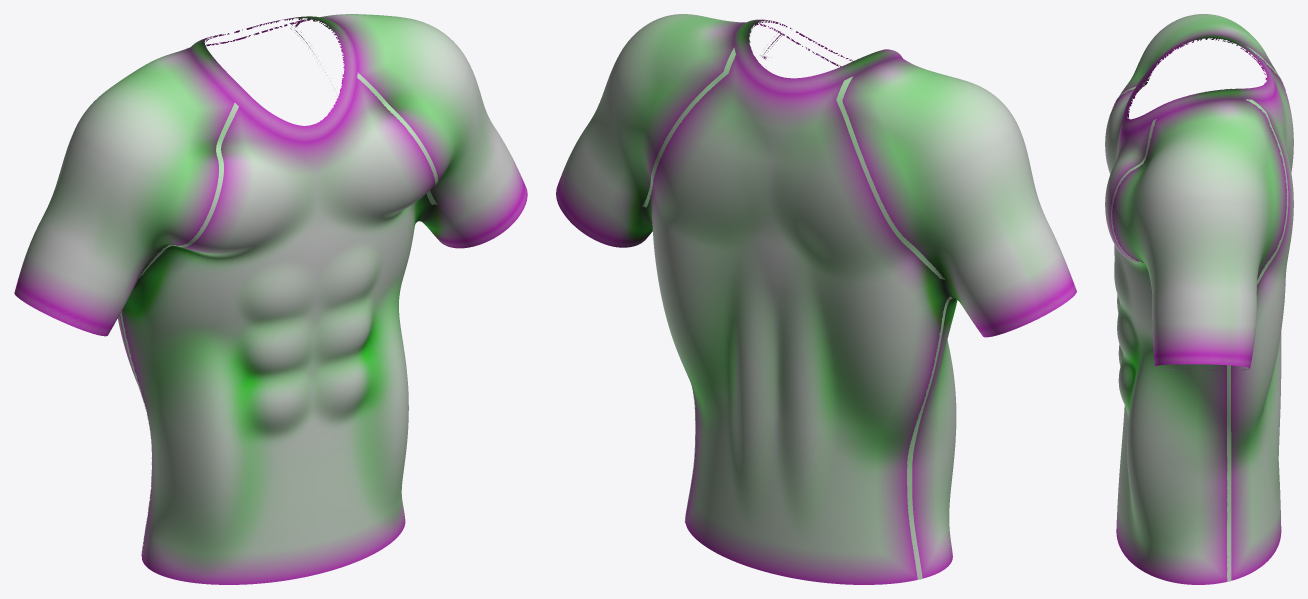
Rendered from compressiontee.glb.
3 renders of one model, left to right at view 1: azimuth 30°, elevation 25°; view 2: azimuth 150°, elevation 25°; view 3: azimuth 270°, elevation 25°, orthographic. The views are drawn at different scales.
Parts seen in each view (by area): view 1: front, sleeve_r, sleeve_l, collar, piping; view 2: back, sleeve_r, sleeve_l, front, piping, collar; view 3: sleeve_l, front, back, sleeve_r, collar, piping.
Part boxes in pixels (box(x1,y1,x2,y2)): front: box(121, 76, 435, 584); sleeve_r: box(14, 47, 234, 336); sleeve_l: box(295, 14, 527, 248); collar: box(189, 16, 357, 141); piping: box(120, 19, 438, 556); back: box(645, 52, 951, 584); sleeve_r: box(842, 57, 1076, 337); sleeve_l: box(556, 14, 781, 247); front: box(685, 33, 957, 578); piping: box(642, 31, 952, 579); collar: box(734, 19, 902, 94); sleeve_l: box(1112, 99, 1286, 370); front: box(1105, 67, 1227, 584); back: box(1231, 54, 1293, 580); sleeve_r: box(1117, 14, 1279, 99); collar: box(1122, 35, 1275, 133); piping: box(1111, 46, 1288, 581).
Size of the model in its own units: 0.6755 by 0.6484 by 0.2375.
